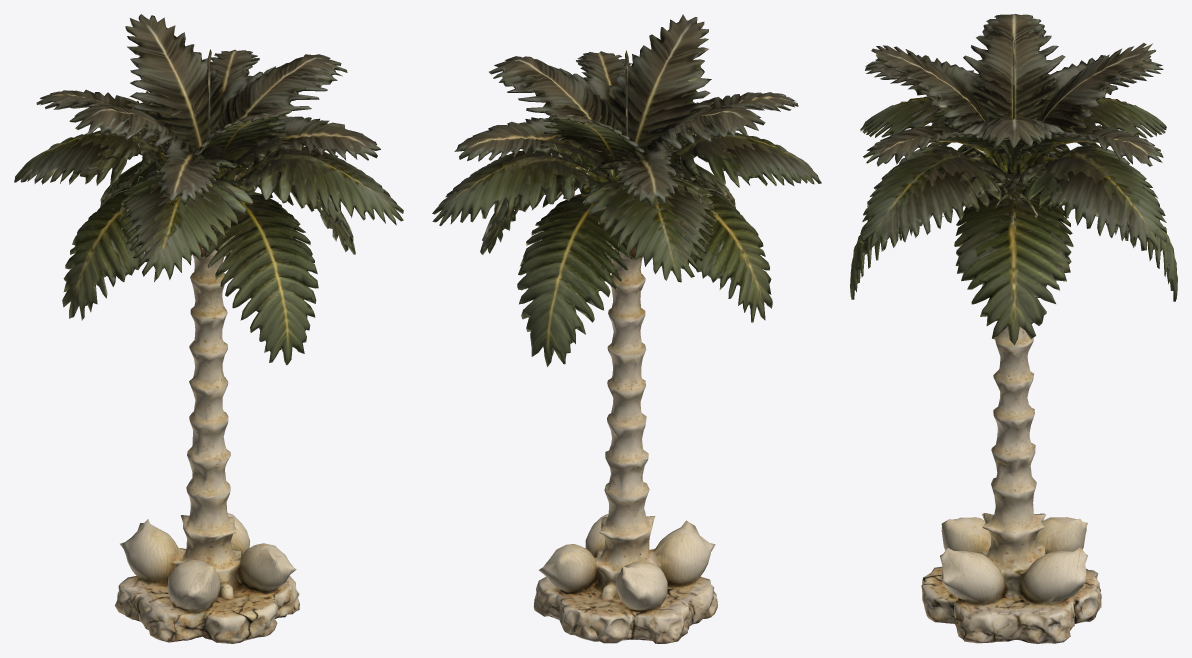
Rendered from Palm Tree.glb.
3 views of the same model, side by side, from view 1: azimuth 30°, elevation 25°; view 2: azimuth 150°, elevation 25°; view 3: azimuth 270°, elevation 25° (orthographic). The views are drawn at different scales.
Visible parts, largest first — view 1: Mesh_0; view 2: Mesh_0; view 3: Mesh_0.
Part boxes in pixels (x1=…): Mesh_0: x1=14, y1=14, x2=403, y2=643; Mesh_0: x1=432, y1=14, x2=821, y2=643; Mesh_0: x1=850, y1=14, x2=1177, y2=643.
Bounding box in the file's own units: 7.8 × 15 × 7.74.
1 material, 1 textured.
